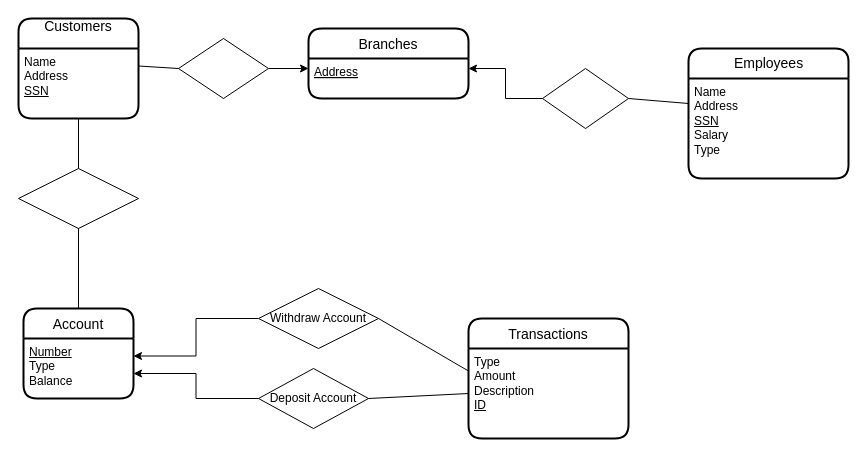
The diagram is 866 pixels wide and 456 high, and some of its shapes have lost their labels. The shapes that lost their labels are listed below. From the top down, each one's centre as x and y in pixels, then its label:
pixel 223 68: home branch
pixel 585 98: employ
pixel 78 198: owner
